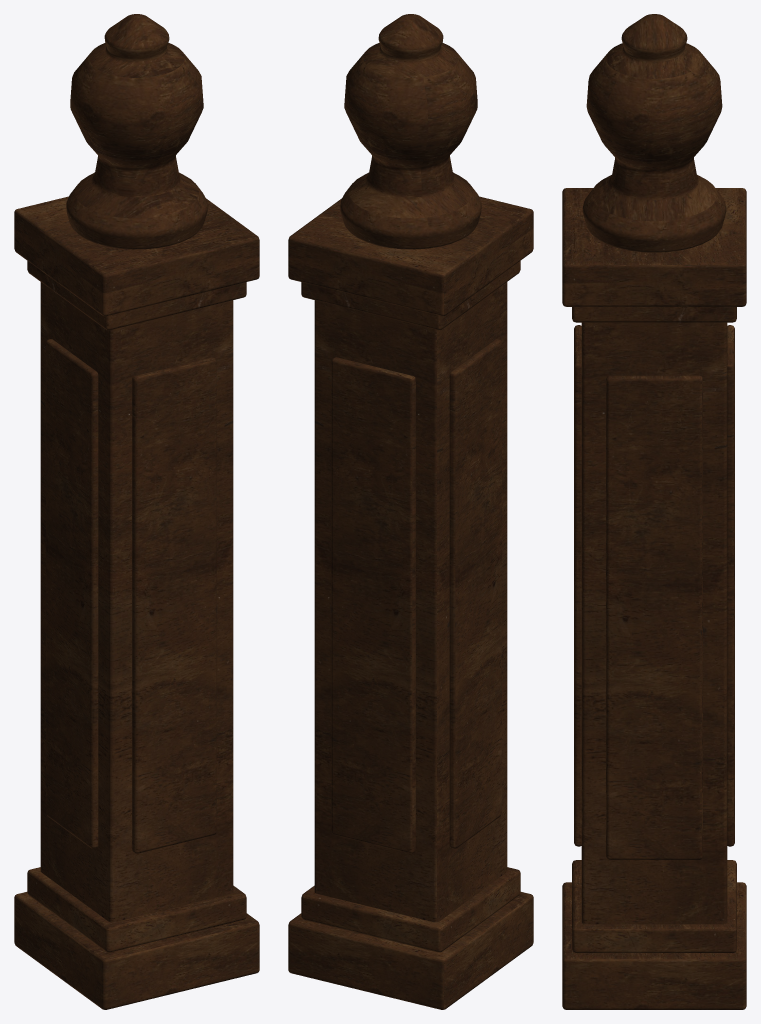
The model's file is Newel_Post.gltf.
3 renders of one model, left to right at view 1: azimuth 30°, elevation 25°; view 2: azimuth 150°, elevation 25°; view 3: azimuth 270°, elevation 25°, orthographic.
Visible parts, largest first — view 1: Newel_Post_Body; view 2: Newel_Post_Body; view 3: Newel_Post_Body.
Boxes of the visible parts, x1=… form: Newel_Post_Body: x1=14, y1=14, x2=259, y2=1009; Newel_Post_Body: x1=288, y1=14, x2=533, y2=1009; Newel_Post_Body: x1=562, y1=14, x2=746, y2=1009.
Size of what is drawn, in the model's own units: 0.19 by 1.09 by 0.19.
1 material, 1 textured.
